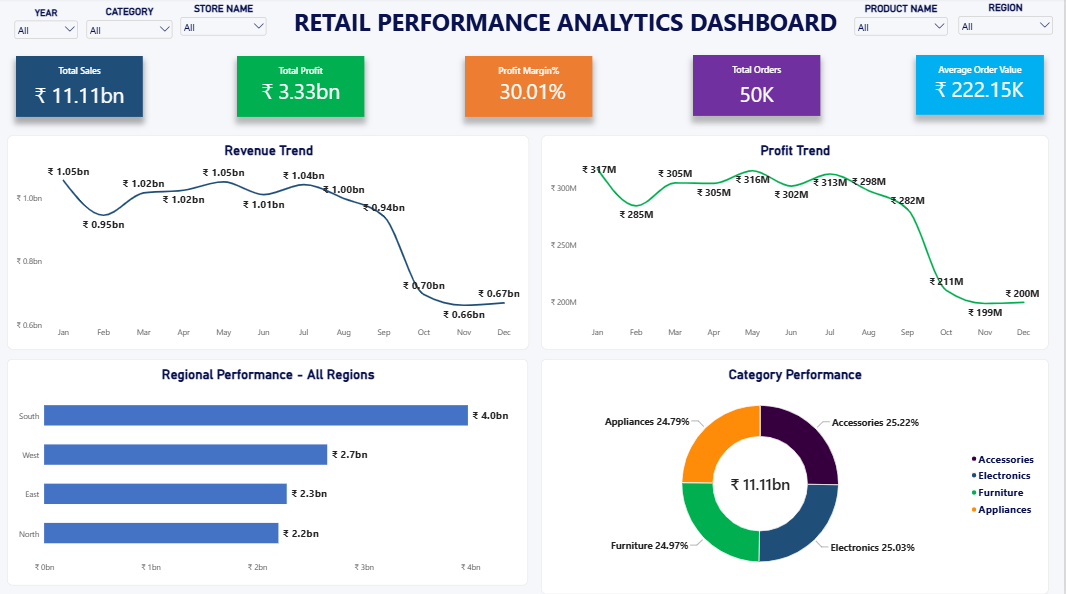

This screenshot's page, from the dashboard's own definition file:
{"tool":"powerbi","page":{"name":"Executive Overview","canvas":[1920,1080],"ordinal":0},"visuals":[{"type":"cardVisual","title":"Total Sales","fields":{"Data":["Fact_Sales.Total_Sales"]},"box":[28.9,106.6,229.4,110.2],"z":0},{"type":"cardVisual","title":"Total Profit","fields":{"Data":["Fact_Sales.Total_Profit"]},"box":[428.4,106,230,110],"z":1000},{"type":"cardVisual","title":"Profit Margin%","fields":{"Data":["Fact_Sales.Margin%"]},"box":[840.3,106,230,110],"z":2000},{"type":"cardVisual","title":"Total Orders","fields":{"Data":["Fact_Sales.Total_Orders"]},"box":[1252.1,104,230,110],"z":3000},{"type":"cardVisual","title":"Average Order Value","fields":{"Data":["Fact_Sales.Average_Order_Value"]},"box":[1654.3,104.7,231.2,108.4],"z":4000},{"type":"slicer","title":"YEAR","fields":{"Values":["Dim_Calendar.Year"]},"box":[16.5,12.4,134.2,78.5],"z":5000},{"type":"slicer","title":"REGION","fields":{"Values":["Dim_Store.Region"]},"box":[1721.8,4.1,189.9,84.6],"z":6000},{"type":"slicer","title":"CATEGORY","fields":{"Values":["Dim_Product.Category"]},"box":[146.6,10.3,175.5,84.6],"z":7000},{"type":"slicer","title":"STORE NAME","fields":{"Values":["Dim_Store.Store_Name"]},"box":[315.9,6.2,175.5,84.6],"z":8000},{"type":"slicer","title":"PRODUCT NAME","fields":{"Values":["Dim_Product.Product_Name"]},"box":[1533.9,6.2,187.9,82.6],"z":9000},{"type":"lineChart","title":"Revenue Trend","fields":{"Category":["Dim_Calendar.Month"],"Y":["Fact_Sales.Total_Sales"]},"box":[12.4,249.8,943.5,388.1],"z":10000},{"type":"lineChart","title":"Profit Trend","fields":{"Category":["Dim_Calendar.Month"],"Y":["Fact_Sales.Total_Profit"]},"box":[976.5,249.8,916.6,388.1],"z":11000},{"type":"clusteredBarChart","fields":{"Category":["Dim_Store.Region"],"Y":["Fact_Sales.Total_Sales"]},"box":[12.4,654.5,941.4,408.8],"z":12000},{"type":"textbox","box":[489.3,16.5,1063.2,59.9],"z":13000},{"type":"donutChart","title":"Category Performance","fields":{"Category":["Dim_Product.Category"],"Y":["Fact_Sales.Total_Sales"]},"box":[976.5,654.5,916.6,425.3],"z":14000}]}

Visuals, with their boxes in screenshot pixels (x1, y1, x2, y2), scaled from the page's 1920x1080 canvas onto the 1066x594 screenshot:
"Total Sales" cardVisual: (x1=16, y1=59, x2=143, y2=119)
"Total Profit" cardVisual: (x1=238, y1=58, x2=366, y2=119)
"Profit Margin%" cardVisual: (x1=467, y1=58, x2=594, y2=119)
"Total Orders" cardVisual: (x1=695, y1=57, x2=823, y2=118)
"Average Order Value" cardVisual: (x1=918, y1=58, x2=1047, y2=117)
"YEAR" slicer: (x1=9, y1=7, x2=84, y2=50)
"REGION" slicer: (x1=956, y1=2, x2=1061, y2=49)
"CATEGORY" slicer: (x1=81, y1=6, x2=179, y2=52)
"STORE NAME" slicer: (x1=175, y1=3, x2=273, y2=50)
"PRODUCT NAME" slicer: (x1=852, y1=3, x2=956, y2=49)
"Revenue Trend" lineChart: (x1=7, y1=137, x2=531, y2=351)
"Profit Trend" lineChart: (x1=542, y1=137, x2=1051, y2=351)
clusteredBarChart - Dim_Store.Region x Fact_Sales.Total_Sales: (x1=7, y1=360, x2=530, y2=585)
textbox: (x1=272, y1=9, x2=862, y2=42)
"Category Performance" donutChart: (x1=542, y1=360, x2=1051, y2=593)
